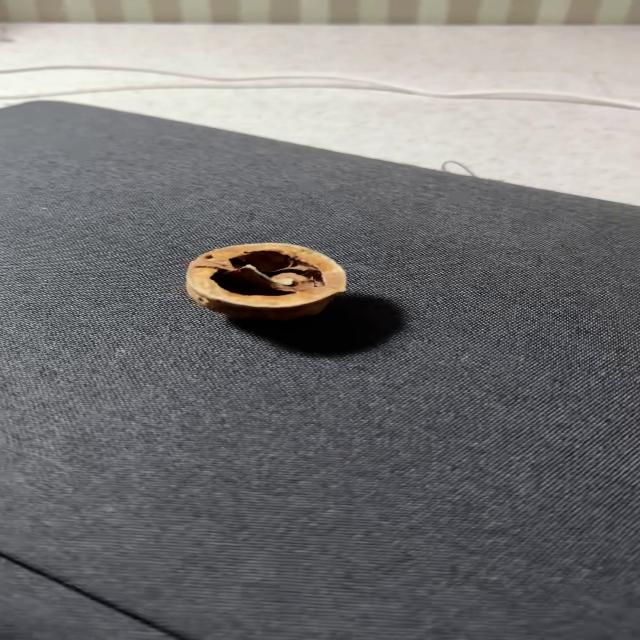nuts-bad0.5: (186, 243, 345, 320)
